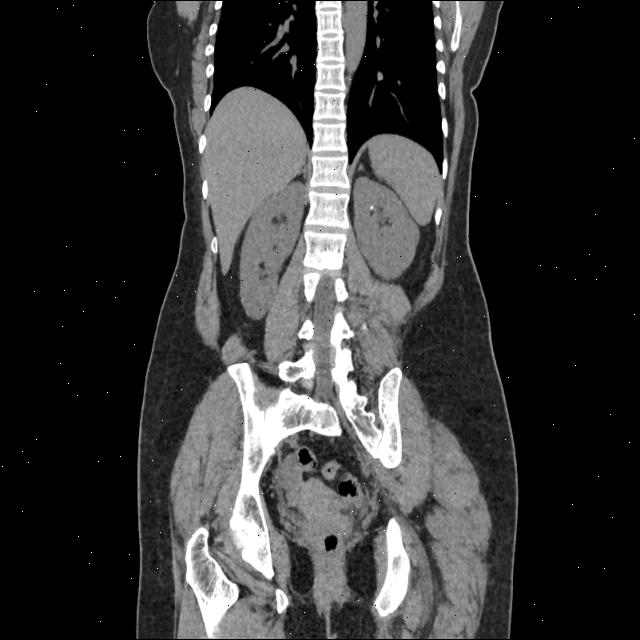kidneystone: (370, 204, 374, 213)
